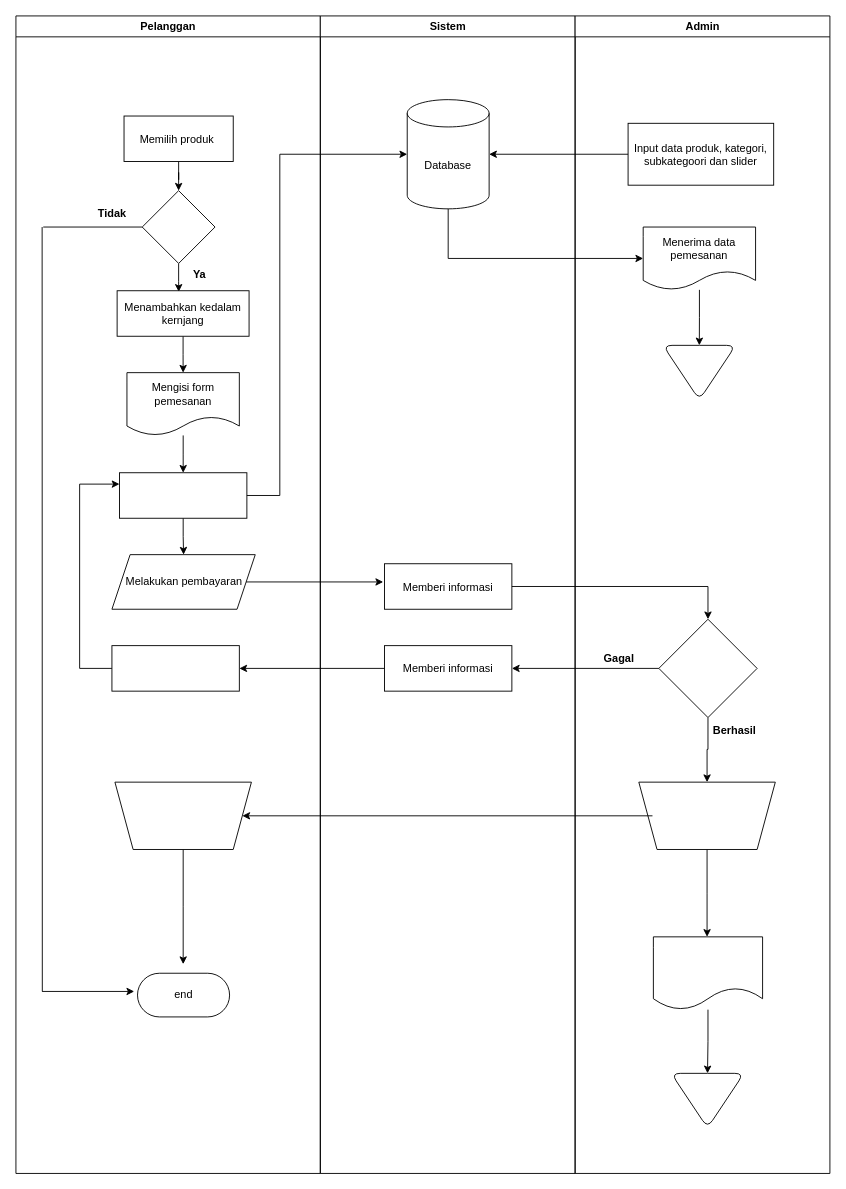
Image size: 846x1189. Some labels were removed from this diagram. The shapes that lost their labels are listed below. From the top down, each one's centre as x and y in pixels, then its label:
At point 178,226: "Beli".
At point 183,495: "Melakukan pembelian".
At point 175,668: "Pembayaran ditolak".
At point 707,668: "Konfirmasi pembayaran".
At point 182,815: "Menerima produk".
At point 706,815: "Memproses pengiriman produk".
At point 707,973: "Laporan Penjualan".
